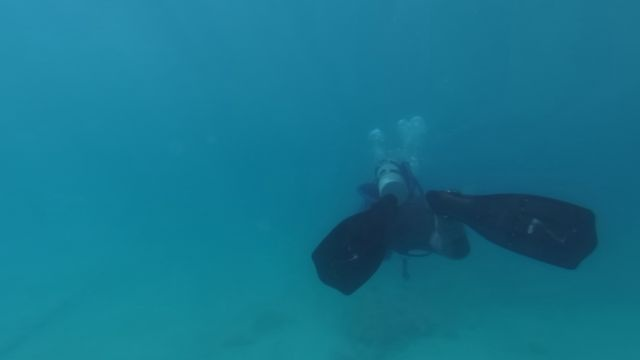Diver: (299, 155, 604, 303)
